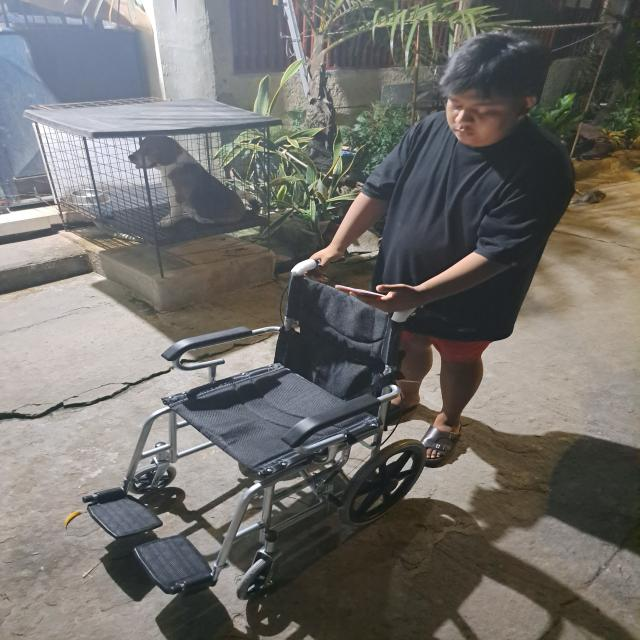wheelchairs: (76, 254, 432, 603)
